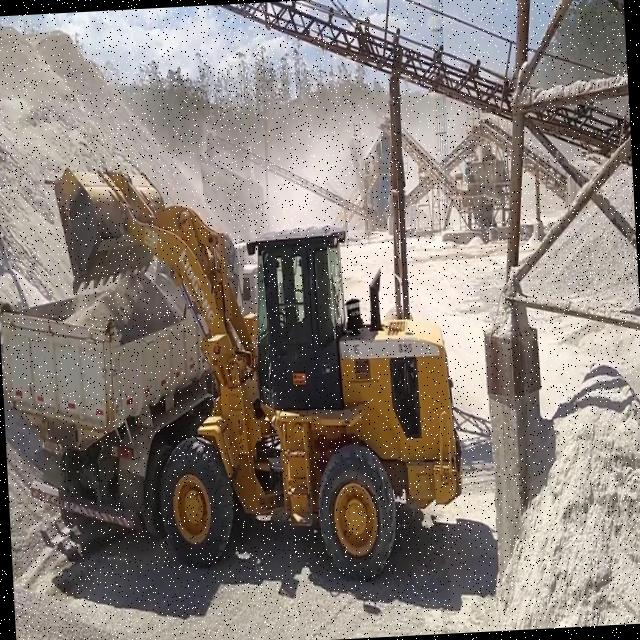Dump Truck: (0, 258, 179, 589)
Loader: (42, 146, 468, 596)
